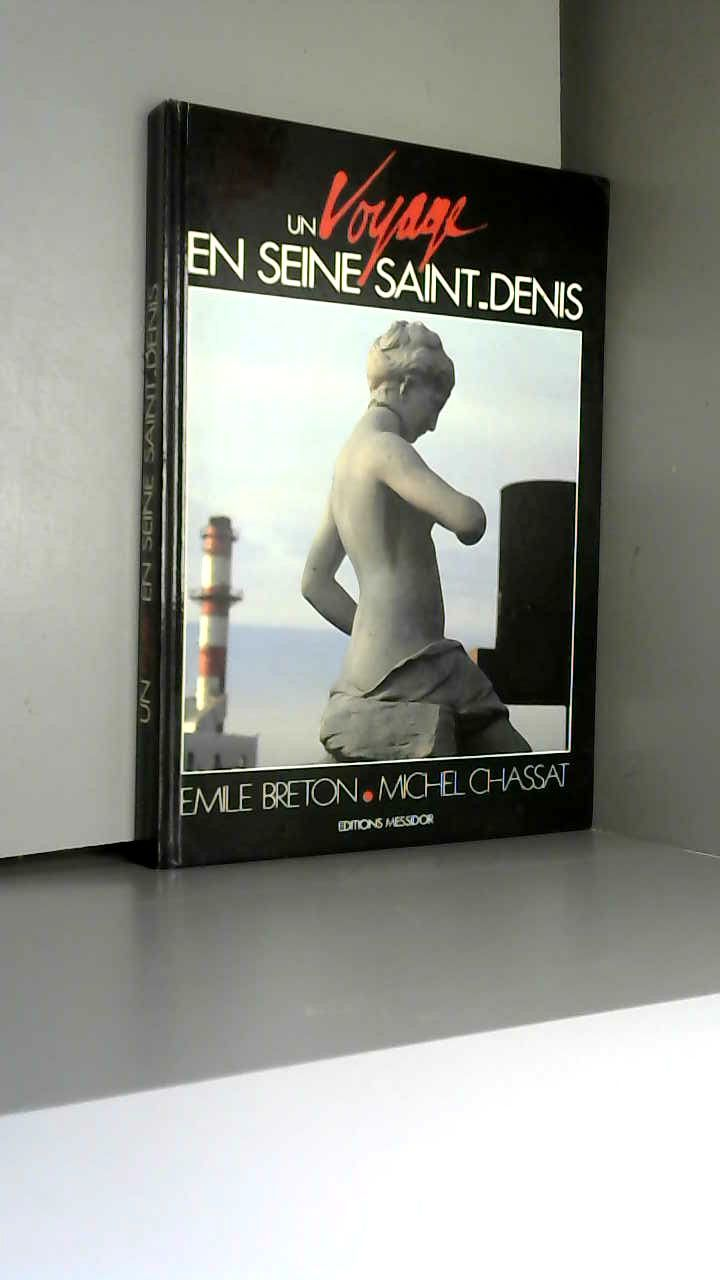book: (110, 70, 720, 889)
